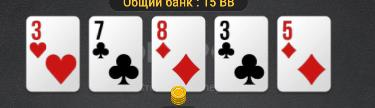3c: (216, 17, 267, 91)
3h: (28, 19, 78, 90)
5d: (278, 18, 330, 91)
7c: (91, 18, 141, 90)
8d: (153, 18, 205, 90)
